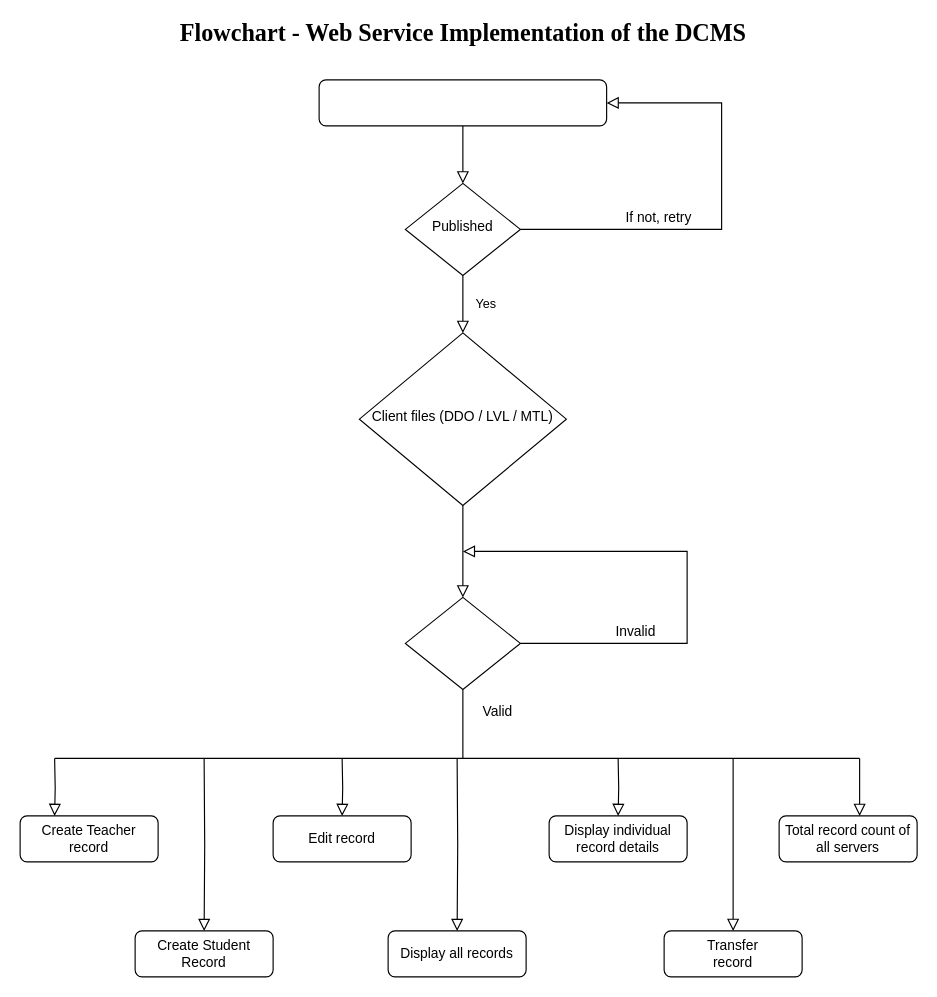
This 937x997 diagram has some shape labels left out. The shapes that lost their labels are listed below. From the top down, each one's box as (x1, y1, x2, y2) in pixels, then its label:
(318, 79, 607, 126): Server files (MTL / LVL / DDO)
(404, 596, 520, 689): Input ManagerID
